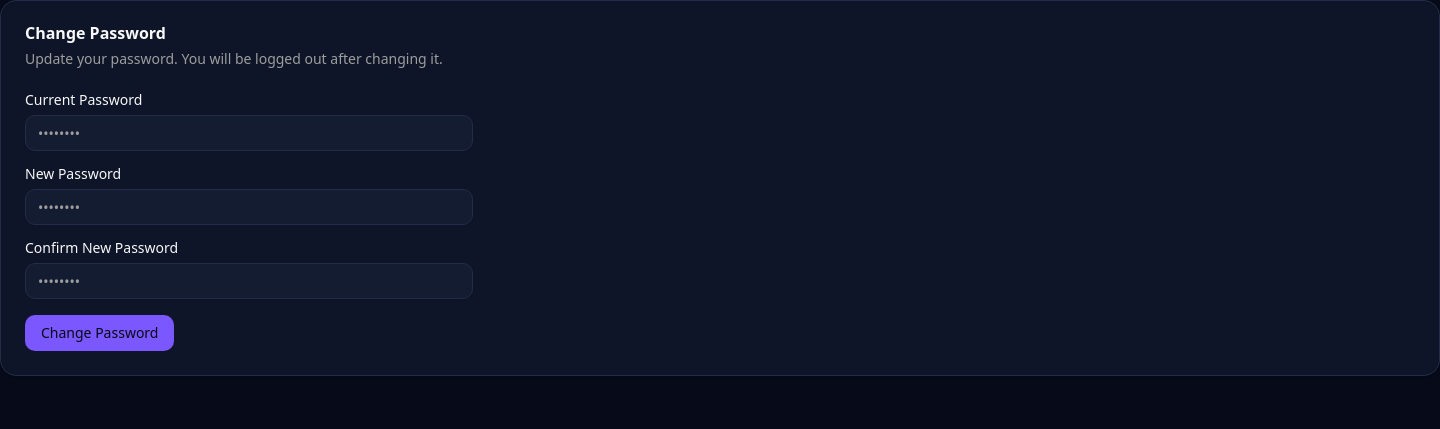
Test: ChangePasswordForm › shows error message on API failure
Type "OldPass123" into the password field labelled "Current Password".
click(249, 133); type("OldPass123")  # box [25, 115, 473, 151]
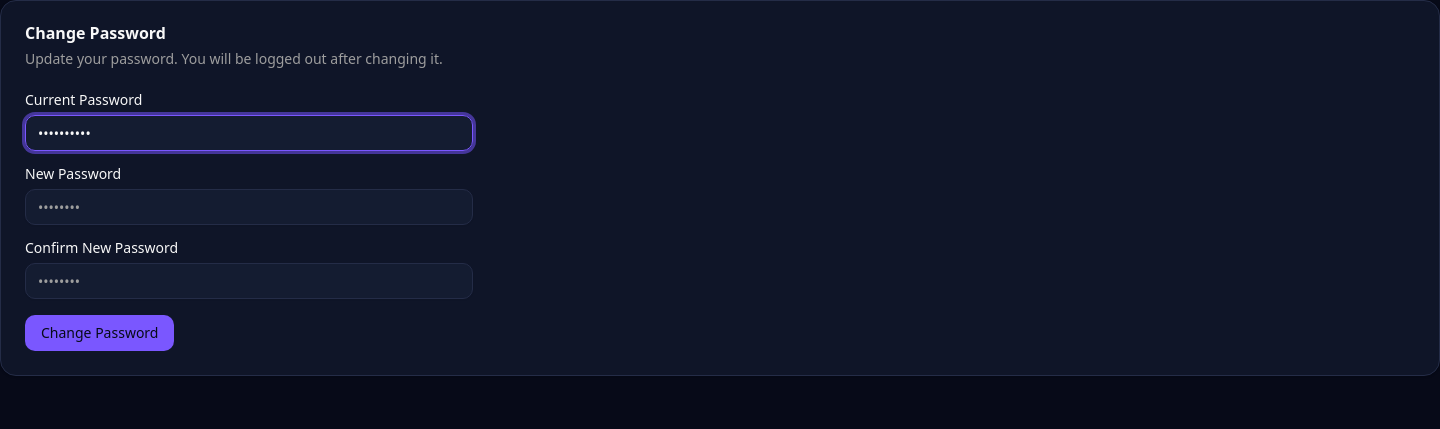
Type "NewPass123" into the password field labelled "New Password".
click(249, 207); type("NewPass123")  # box [25, 189, 473, 225]
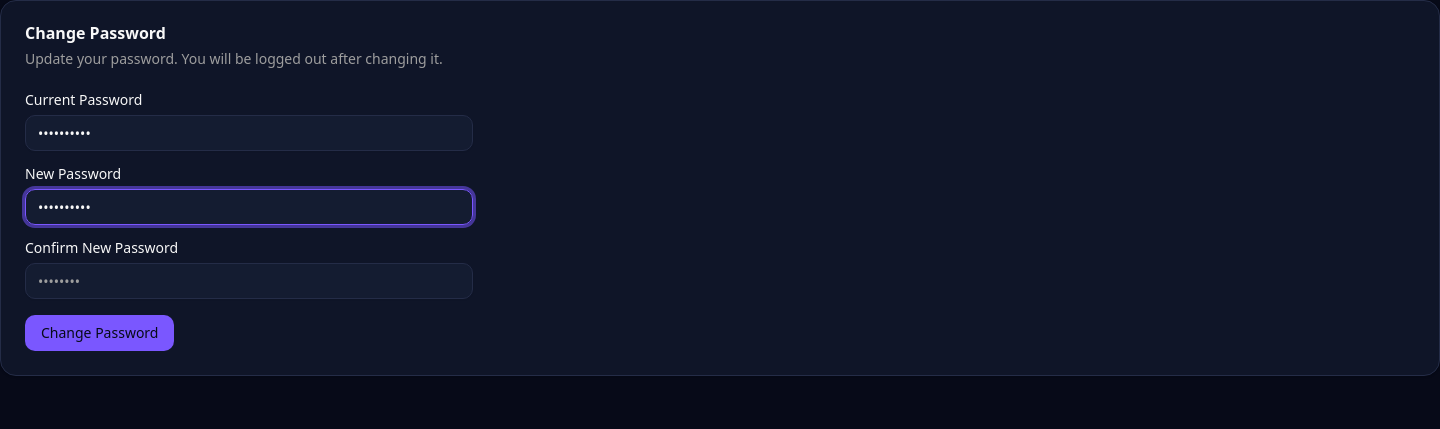
Type "NewPass123" into the password field labelled "Confirm New Password".
click(249, 281); type("NewPass123")  # box [25, 263, 473, 299]
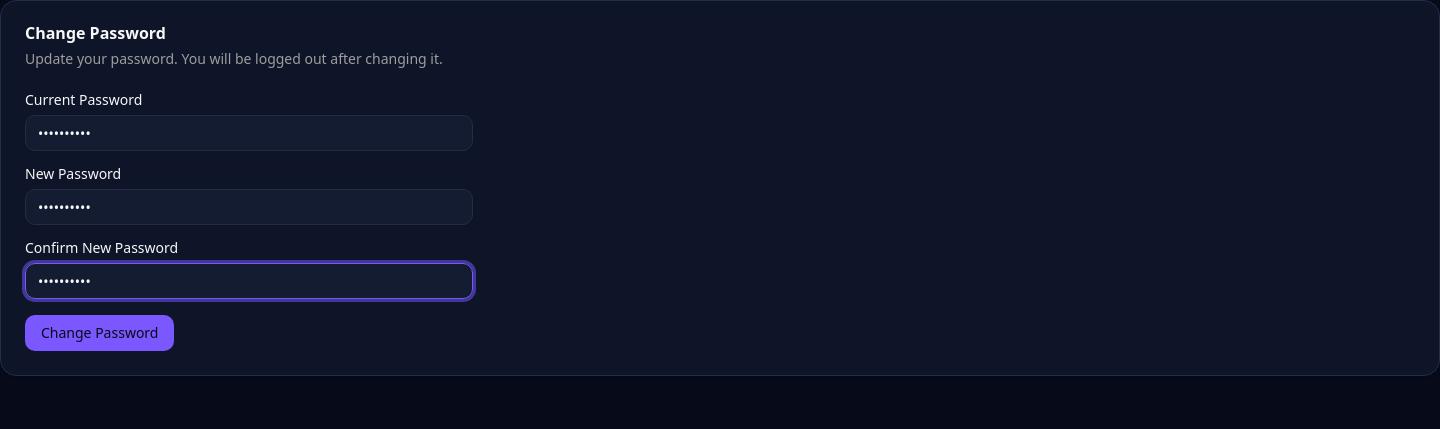
Click the button "Change Password".
click(100, 333)  # box [25, 315, 174, 351]
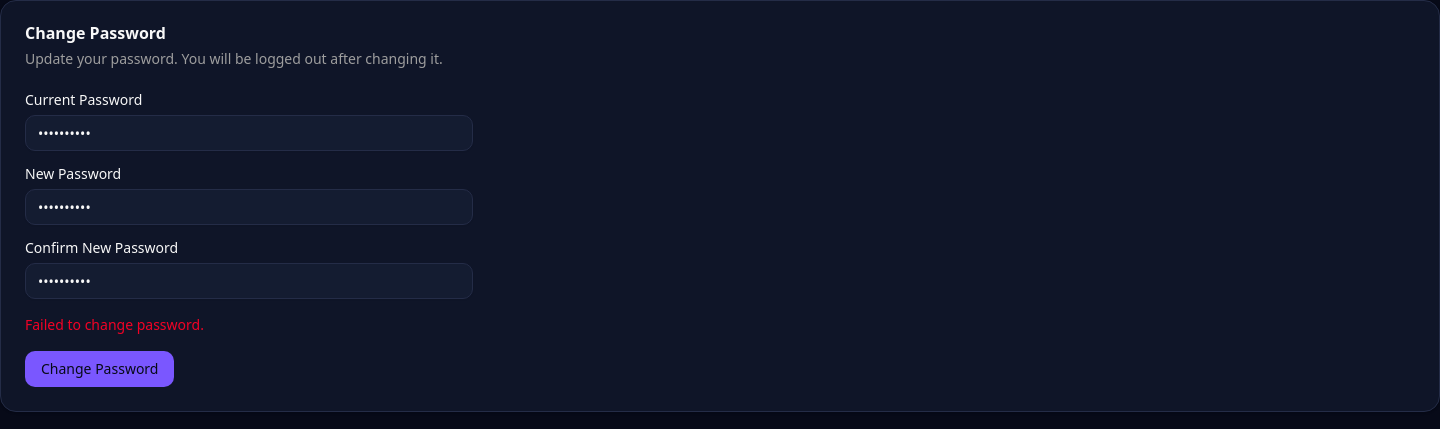
Expected: the text "Failed to change password." is shown, [25, 315, 204, 334]
